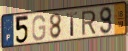5: (14, 14, 30, 45)
8: (49, 12, 63, 41)
9: (98, 6, 113, 36)
G: (31, 14, 46, 42)
R: (80, 10, 97, 37)
T: (65, 11, 79, 38)
